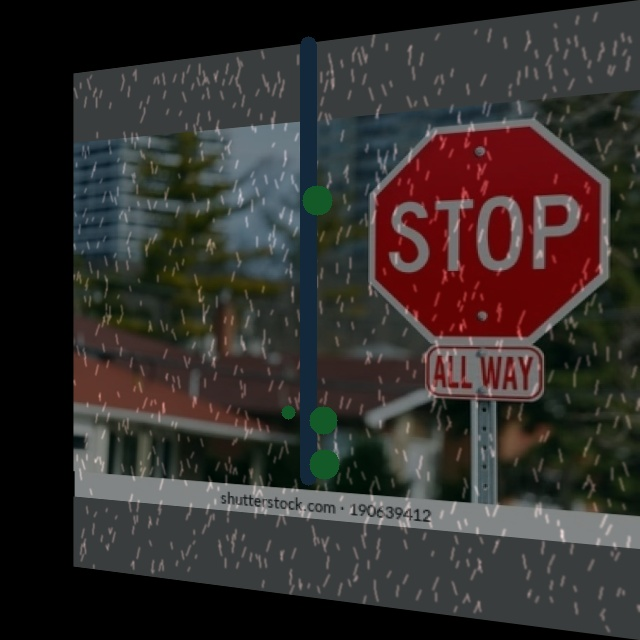Stop: (370, 111, 610, 345)
